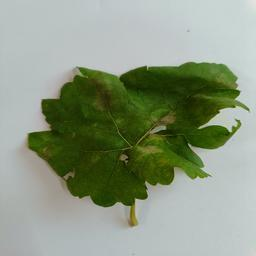Powdery-Mildew: (177, 61, 233, 85)
